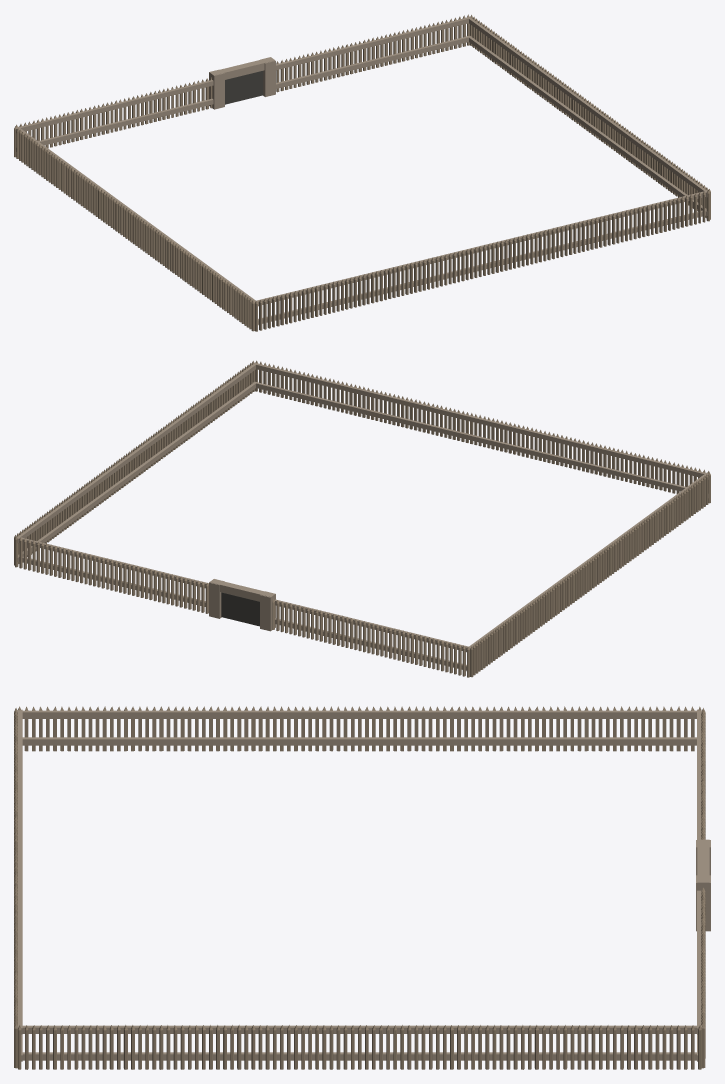
File: kinzie_house_1812_green__kinzie_1804.glb
3 renders of one model, top to bottom at view 1: azimuth 30°, elevation 25°; view 2: azimuth 150°, elevation 25°; view 3: azimuth 270°, elevation 25°, orthographic. The views are drawn at different scales.
Parts seen in each view (by area): view 1: kinzie_house_1812_green__kinzie_1804; view 2: kinzie_house_1812_green__kinzie_1804; view 3: kinzie_house_1812_green__kinzie_1804.
Part boxes in pixels (x1,y1,x2,y2): kinzie_house_1812_green__kinzie_1804: (14,14,710,331); kinzie_house_1812_green__kinzie_1804: (14,360,710,677); kinzie_house_1812_green__kinzie_1804: (14,706,710,1069).
Size of the model in its own units: 17.09 by 1.21 by 15.72.
